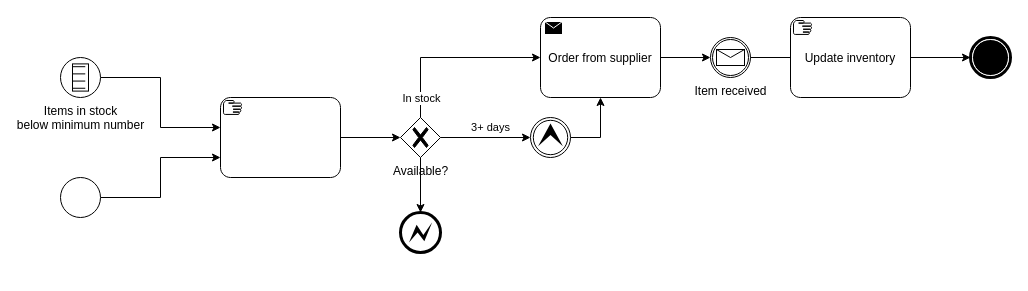
Image size: 1028x291. Some labels were removed from this diagram. Each missing label, with the centre of its shape:
"Check if available from suppliers" belongs at pixel 280 137.
"Delivery delayed" belongs at pixel 550 137.
"Not available" belongs at pixel 420 232.
